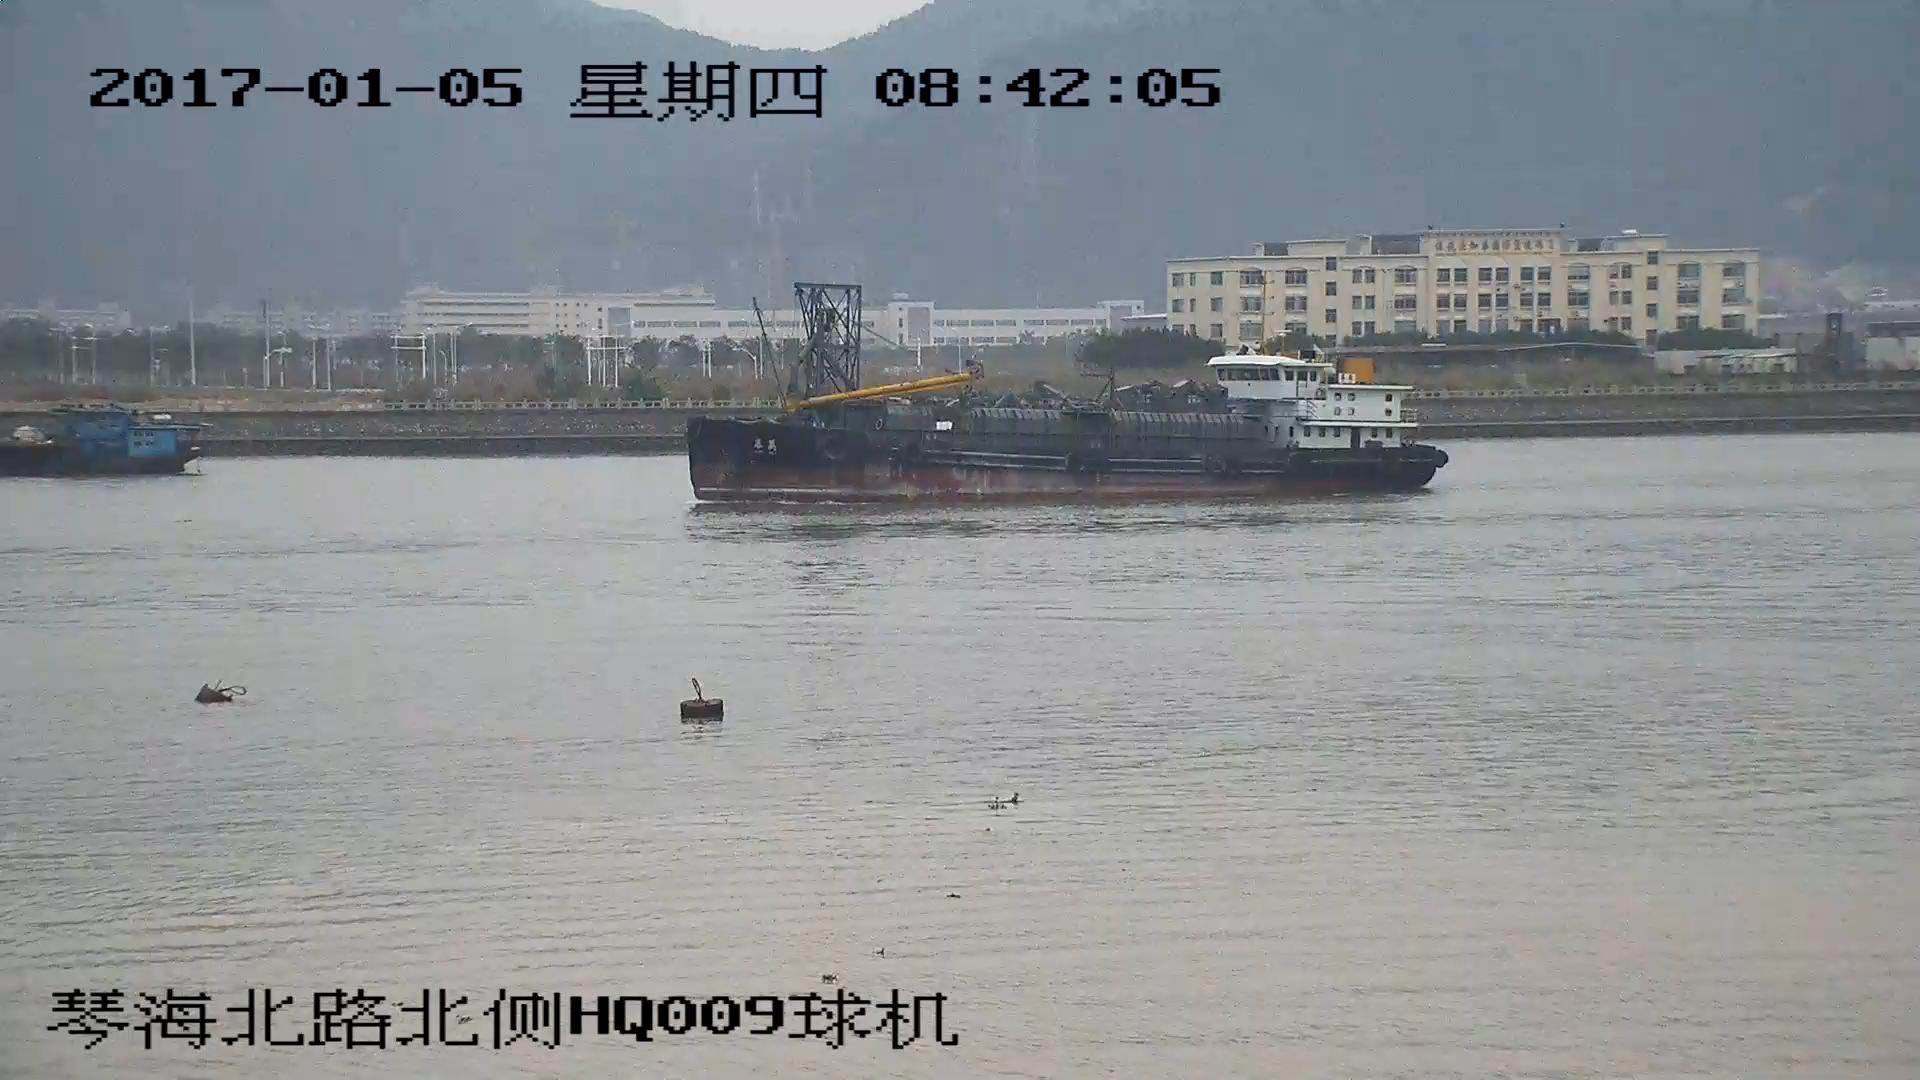bulk cargo carrier: (697, 287, 1448, 507)
